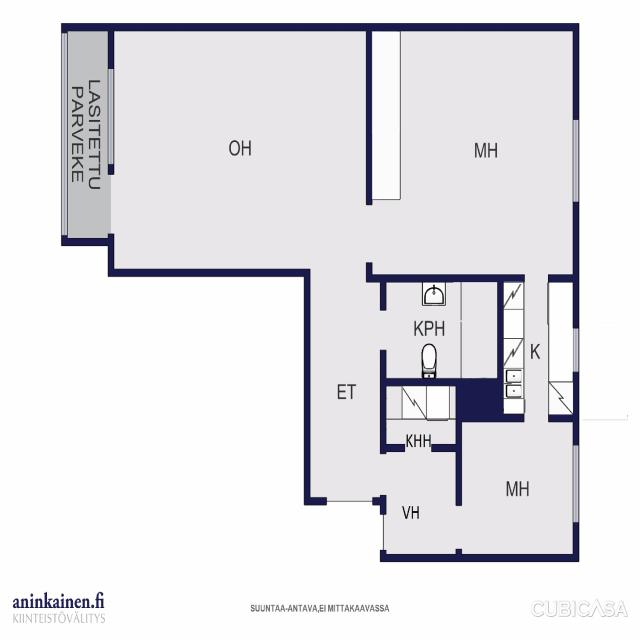door: (327, 497, 372, 565), (366, 205, 415, 263), (380, 454, 417, 494), (456, 507, 492, 548), (351, 310, 386, 349), (405, 444, 431, 488), (354, 514, 386, 549)
